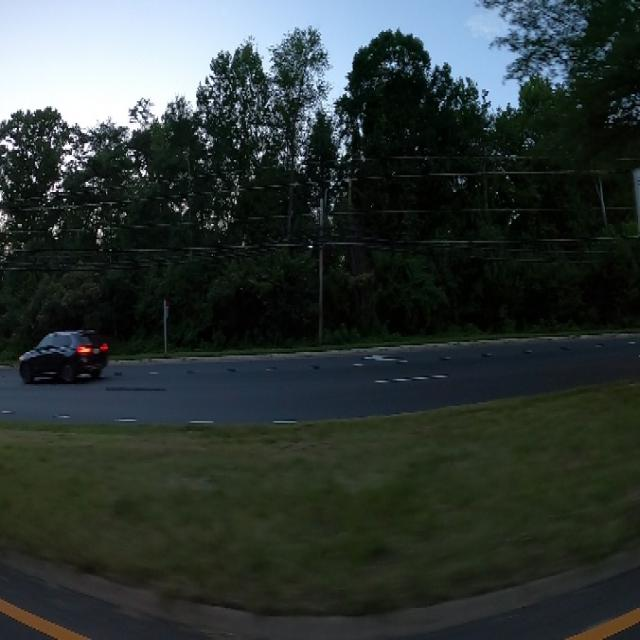cars: (15, 312, 110, 390)
